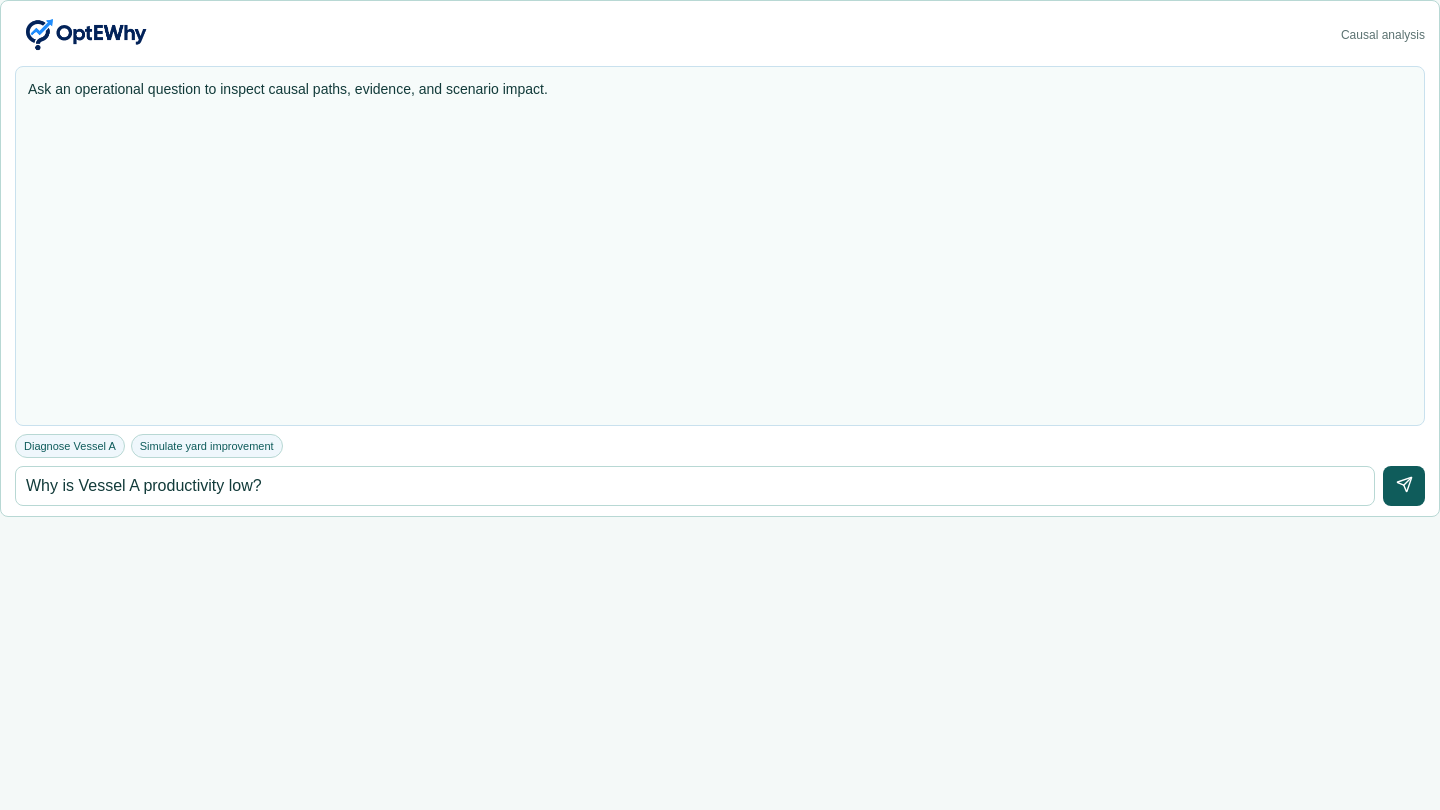
Test: CopilotPanel › shows the answer returned by the backend
Click the button named "Send query": (1404, 486) [1383,466,1425,506]
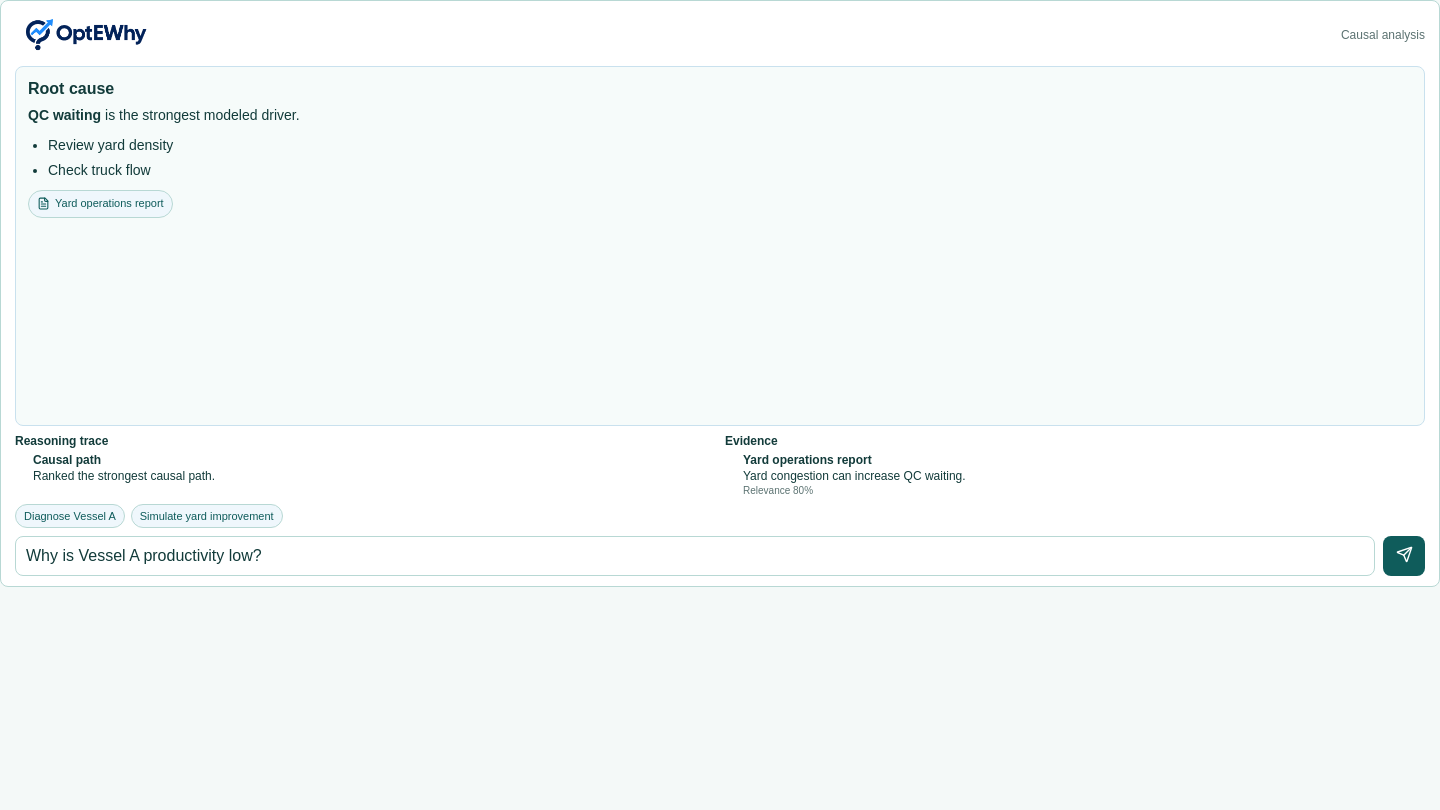
Now the heading "Root cause" is shown, box [28,80,114,97]
Now the list item "Review yard density" is shown, box [48,137,173,153]
Now the heading "Reasoning trace" is shown, box [15,434,108,448]
